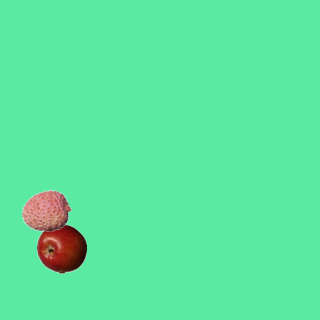Apple Braeburn: (36, 223, 86, 273)
Lychee: (21, 185, 71, 235)
